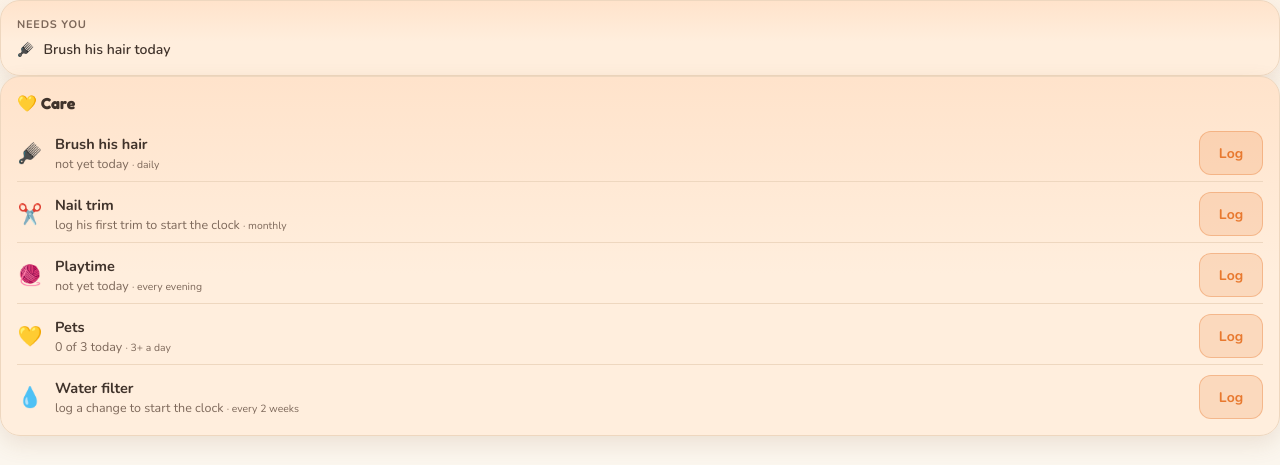
Scenario: Care log + reminders › a failed log shows the error and never crashes
Click the button with aria-label "Log: Pets": (1231, 336) [1199, 314, 1263, 358]
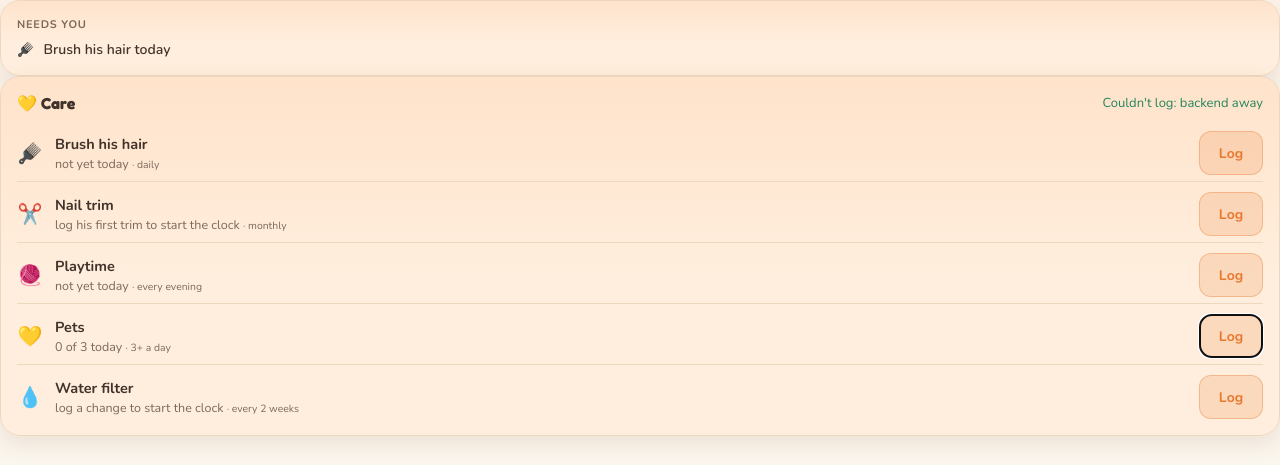
Now the text "Couldn't log: backend away" is shown, box [1102, 94, 1263, 112]
